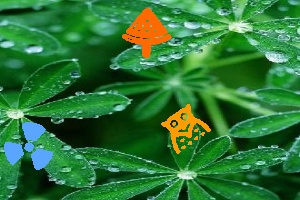三角蘑菇: (122, 8, 171, 56)
核辐射: (4, 122, 53, 169)
猫头鹰: (161, 105, 211, 152)
